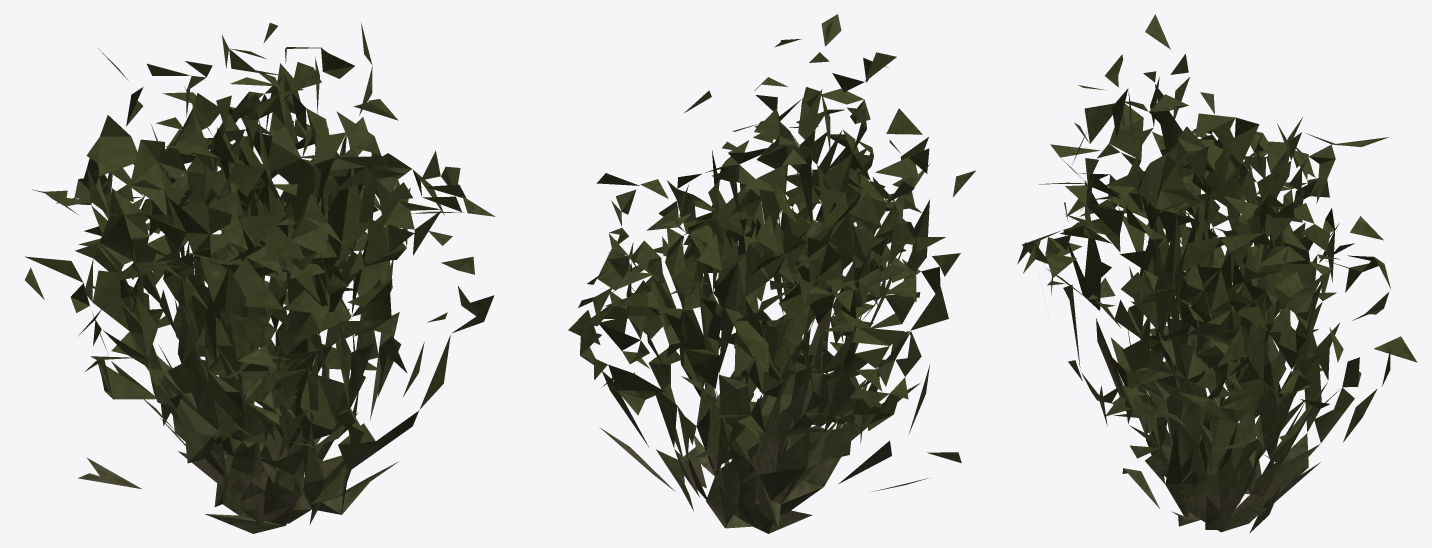
The model's file is p_bush.glb.
3 renders of one model, left to right at view 1: azimuth 30°, elevation 25°; view 2: azimuth 150°, elevation 25°; view 3: azimuth 270°, elevation 25°, orthographic. The views are drawn at different scales.
Visible parts, largest first — view 1: output_unwrapped; view 2: output_unwrapped; view 3: output_unwrapped.
Boxes of the visible parts, <box> form: output_unwrapped: <box>25,22,495,533</box>; output_unwrapped: <box>568,14,975,533</box>; output_unwrapped: <box>1017,14,1417,533</box>.
Bounding box in the file's own units: 1.29 × 1.45 × 1.18.
Materials: 1 (1 with a texture image).
